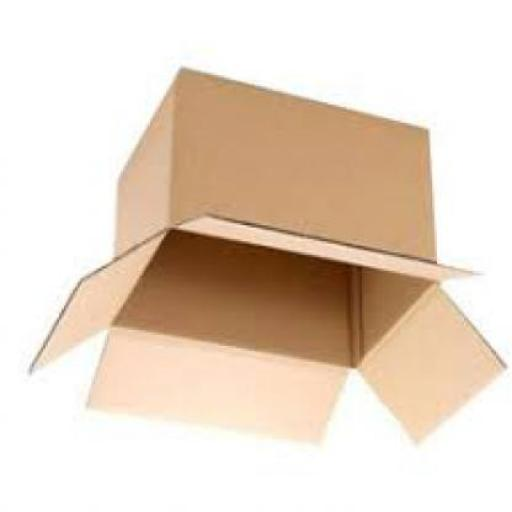cardboard: (20, 75, 506, 451)
